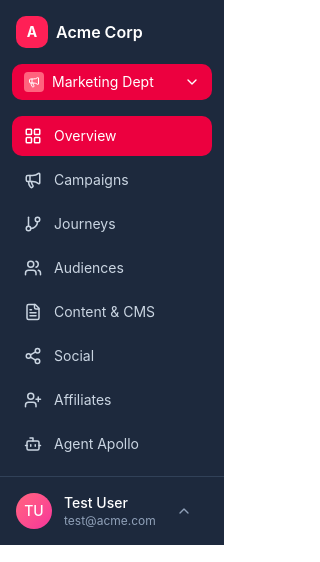
MarketingSidebar › should show department links when dropdown is opened
The width and height of the screenshot is (320, 562).
Click the button "Marketing Dept" at (112, 82), box [12, 64, 212, 100]
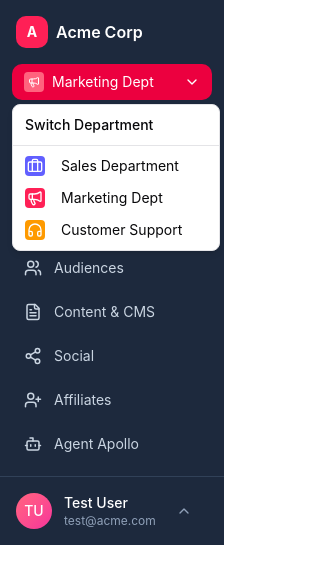
Result: the menu item "Sales Department" is shown at [25, 156, 179, 176]
Result: the menu item "Customer Support" is shown at [25, 220, 182, 240]
